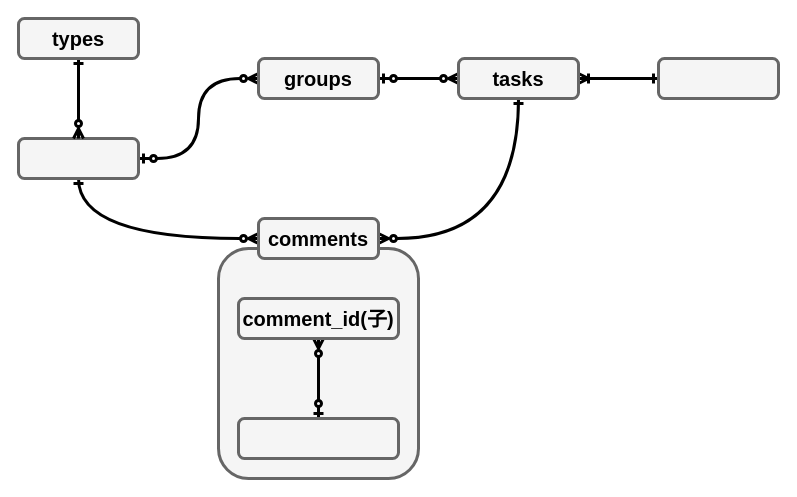
The diagram is 797 pixels wide and 497 high, and some of its shapes have lost their labels. The shapes that lost their labels are listed below. From the top down, each one's centre as x and y in pixels, then its label:
(x=718, y=78): states
(x=78, y=158): users
(x=318, y=438): parent_id(親)
